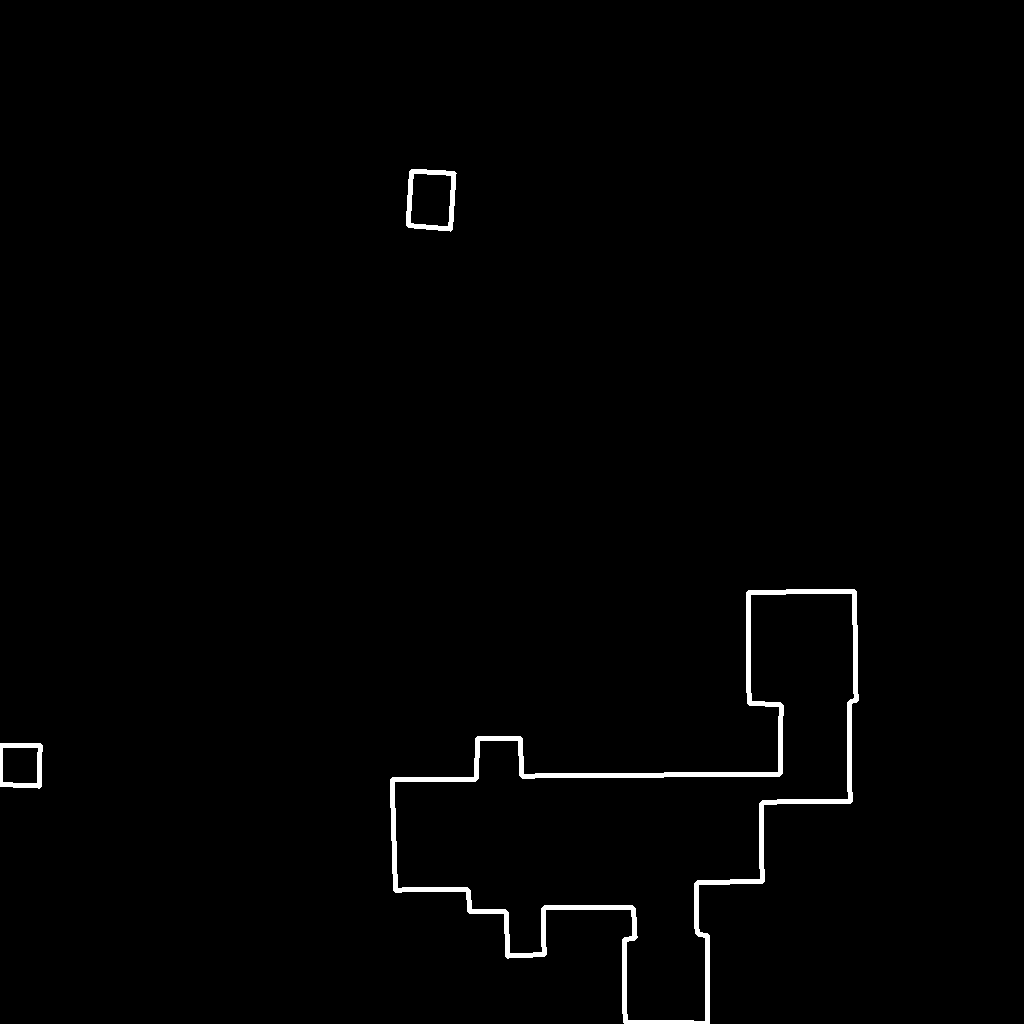building: (392, 591, 857, 1024), (408, 171, 455, 230), (0, 745, 41, 787)
